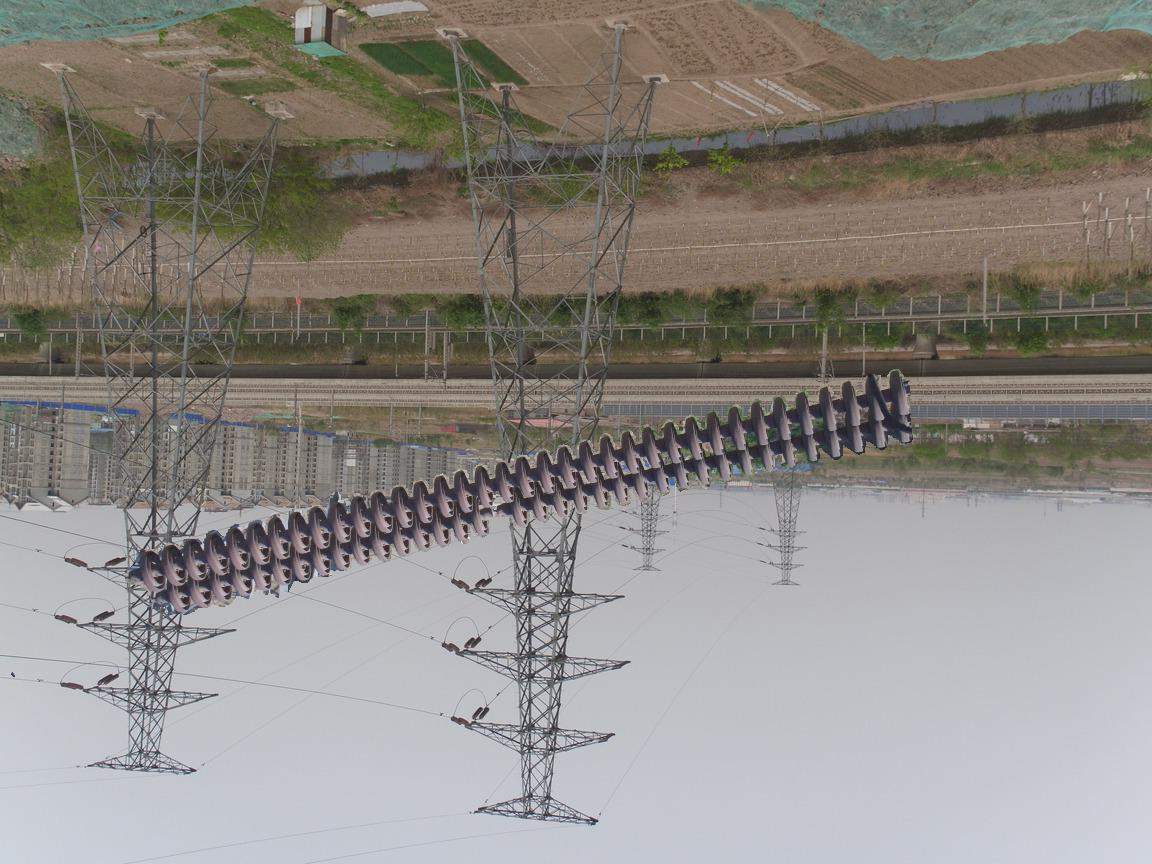insulator: (131, 362, 919, 621)
insulator_stringdrop: (469, 490, 531, 542)
